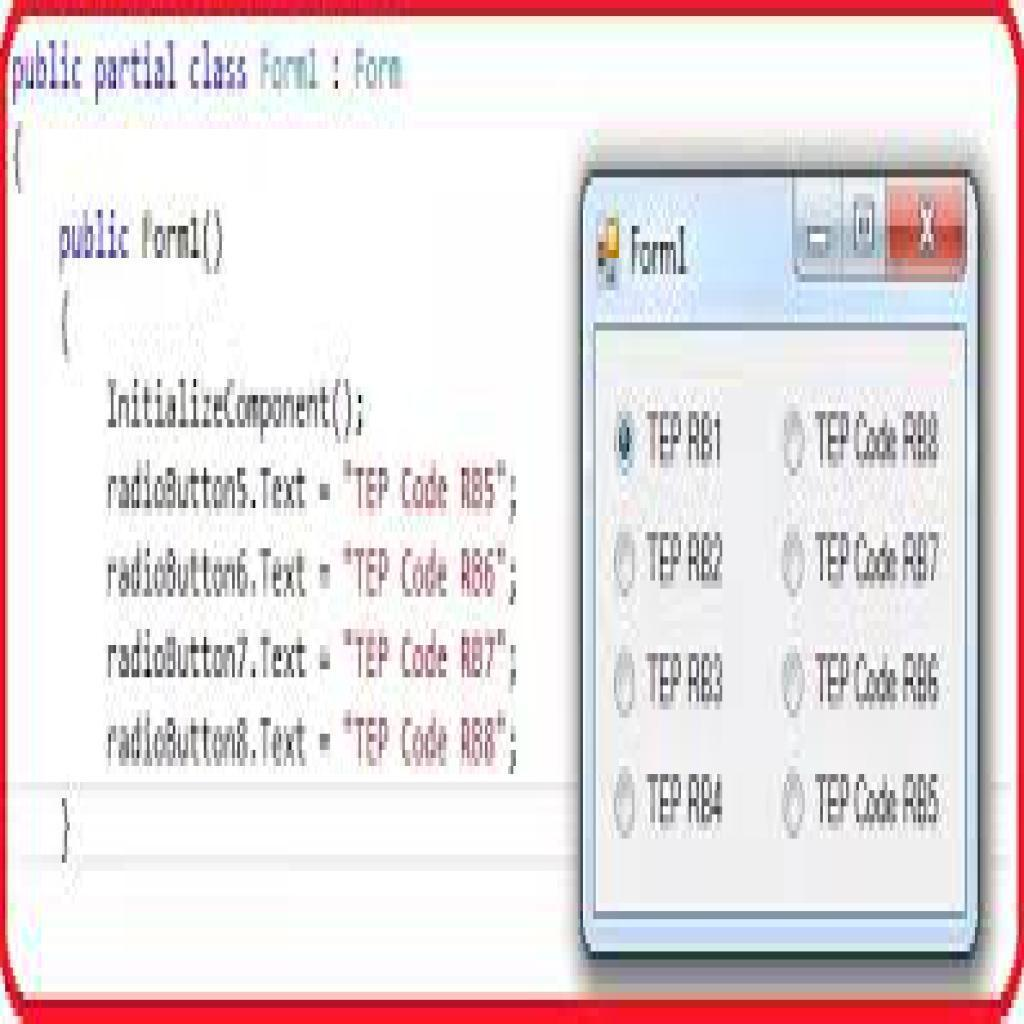radio: (778, 766, 810, 843), (778, 646, 809, 717), (612, 646, 641, 721), (781, 523, 809, 598), (611, 529, 641, 598), (614, 766, 639, 848), (611, 410, 641, 478), (782, 408, 810, 477)
